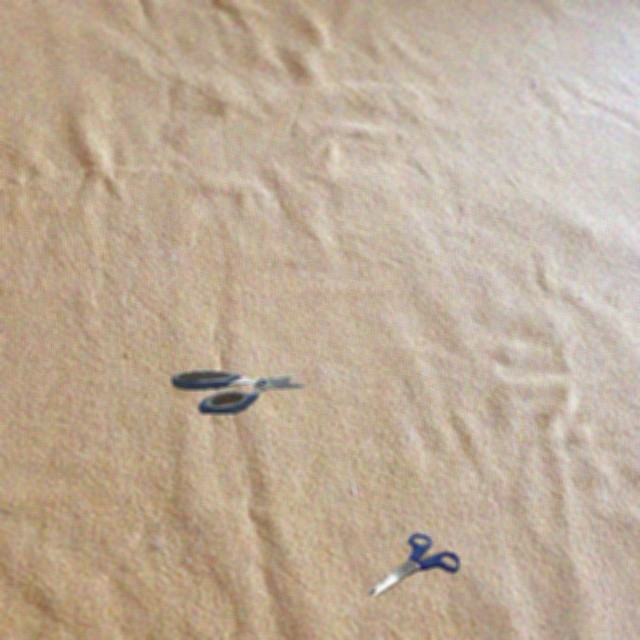scissors: (172, 370, 307, 414), (367, 533, 459, 595)
